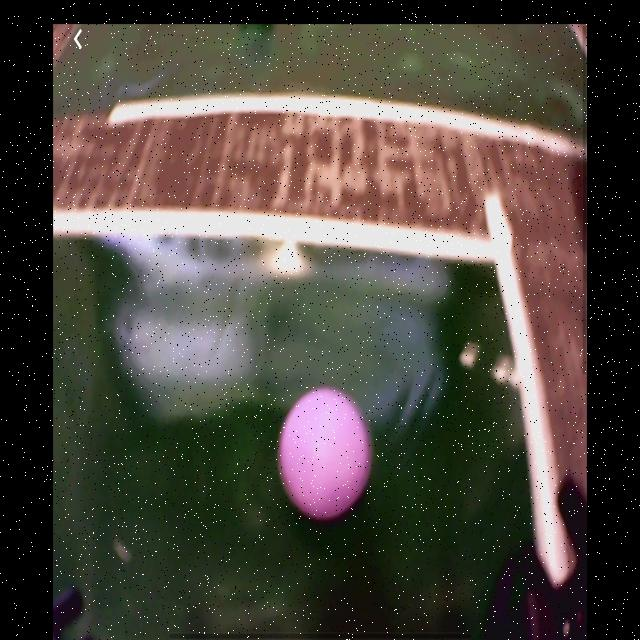ball: (279, 387, 372, 519)
